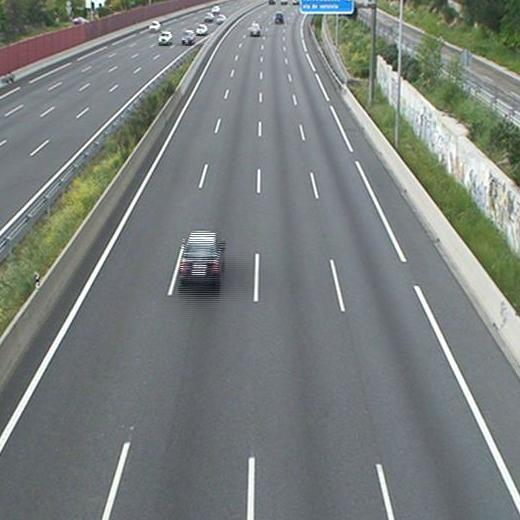car: (179, 231, 226, 291), (249, 22, 261, 36)
